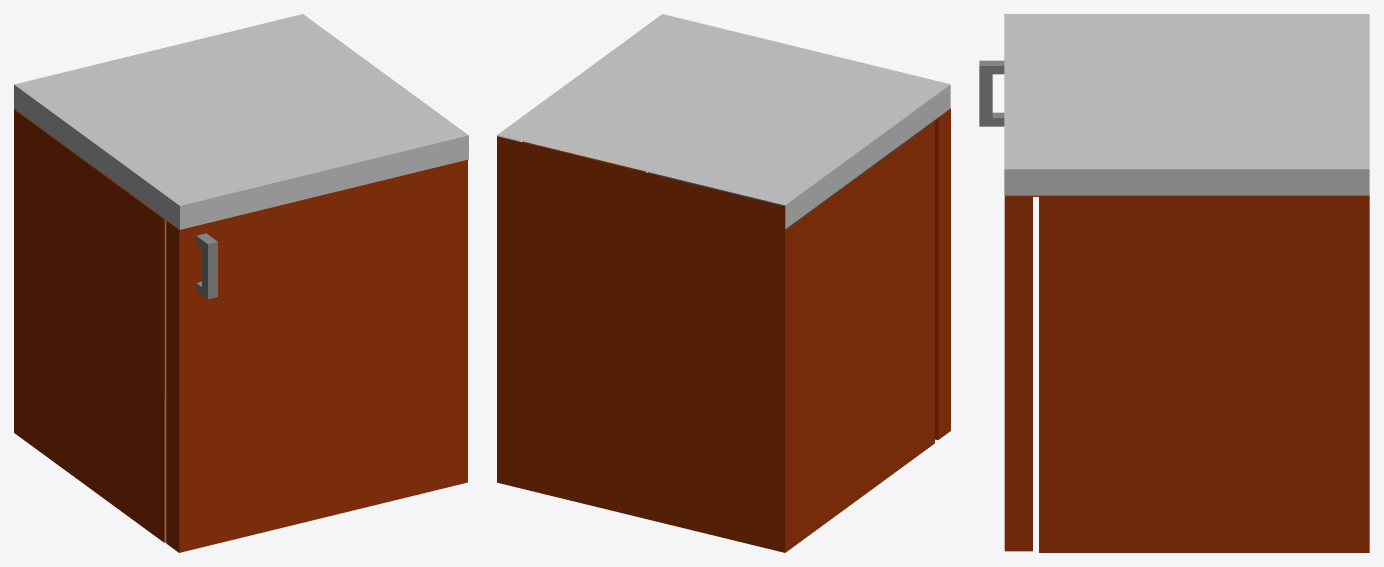
Rendered from mobile_cucina_Scene.obj.
The picture shows the model from 3 angles, left to right: view 1: azimuth 30°, elevation 25°; view 2: azimuth 150°, elevation 25°; view 3: azimuth 270°, elevation 25°; orthographic projection. The views are drawn at different scales.
Parts seen in each view (by area): view 1: Cube_Cube_Wood_Cherry, Cube_Cube_Material, Cube_Cube_Aluminum; view 2: Cube_Cube_Wood_Cherry, Cube_Cube_Material; view 3: Cube_Cube_Wood_Cherry, Cube_Cube_Material, Cube_Cube_Aluminum.
Part boxes in pixels (bbox=[...]): Cube_Cube_Wood_Cherry: bbox=[14, 108, 467, 552]; Cube_Cube_Material: bbox=[14, 14, 468, 229]; Cube_Cube_Aluminum: bbox=[165, 219, 217, 541]; Cube_Cube_Wood_Cherry: bbox=[497, 108, 950, 552]; Cube_Cube_Material: bbox=[497, 14, 950, 228]; Cube_Cube_Wood_Cherry: bbox=[1004, 195, 1369, 552]; Cube_Cube_Material: bbox=[1004, 14, 1369, 195]; Cube_Cube_Aluminum: bbox=[979, 60, 1004, 126].
Bounding box in the file's own units: 2.62 × 3.02 × 2.78.
